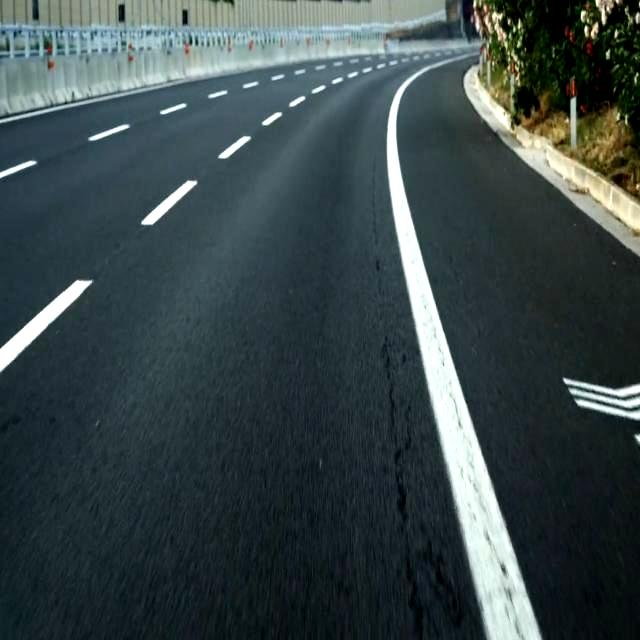lane: (386, 58, 541, 639), (0, 280, 91, 372), (569, 380, 640, 419), (141, 181, 196, 225), (88, 125, 130, 141), (219, 137, 250, 157)
road: (0, 59, 485, 639), (398, 59, 639, 639)
